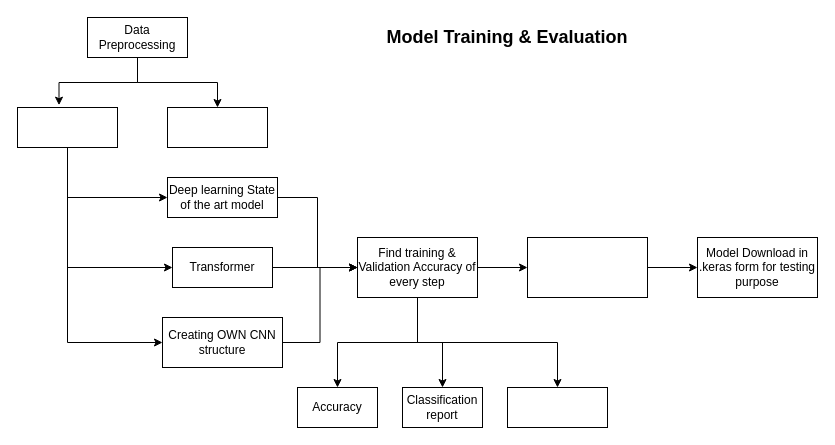
Some shapes in this 835 by 445 pixel diagram are drawn without their labels. Each missing label, with the centre of its shape:
Find Those model that provide higher accuracy: the point at 587,267
Test Data: the point at 217,127
Training Data: the point at 67,127
Visualization Heat Map: the point at 557,407
